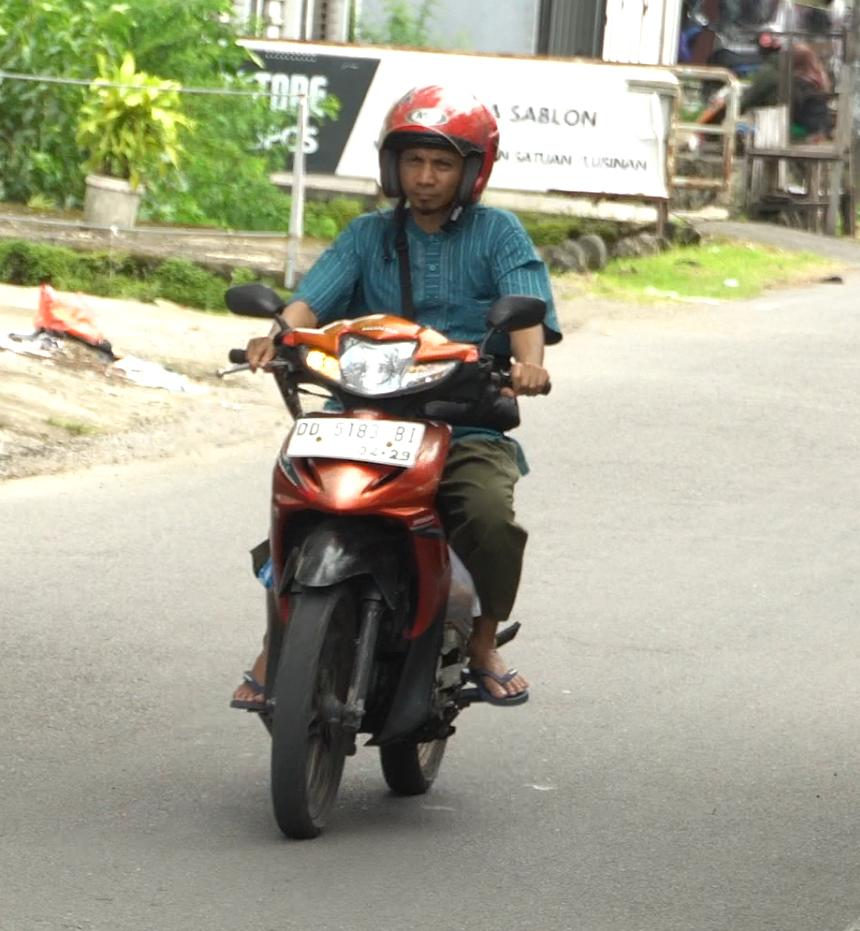number-plate: (285, 414, 426, 471)
